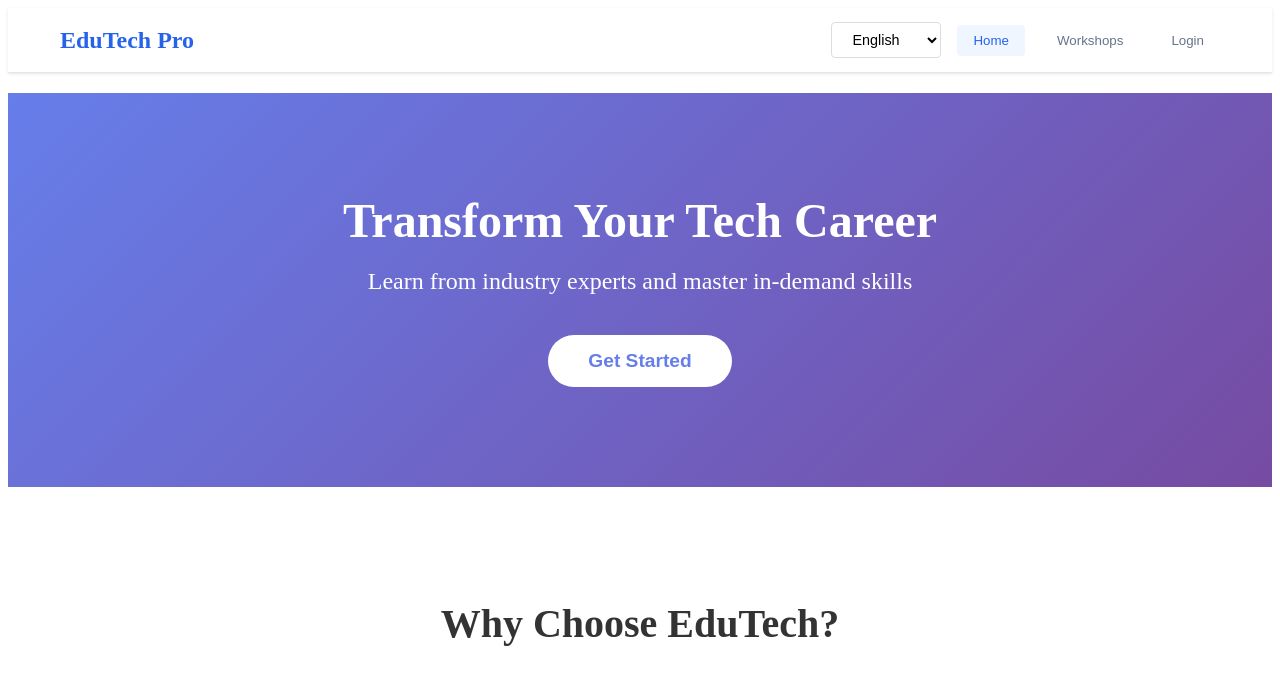
Test: Smoke Tests - Critical Paths › should display workshops
Click the button "Workshops" at (1090, 41), box [1041,25,1139,56]
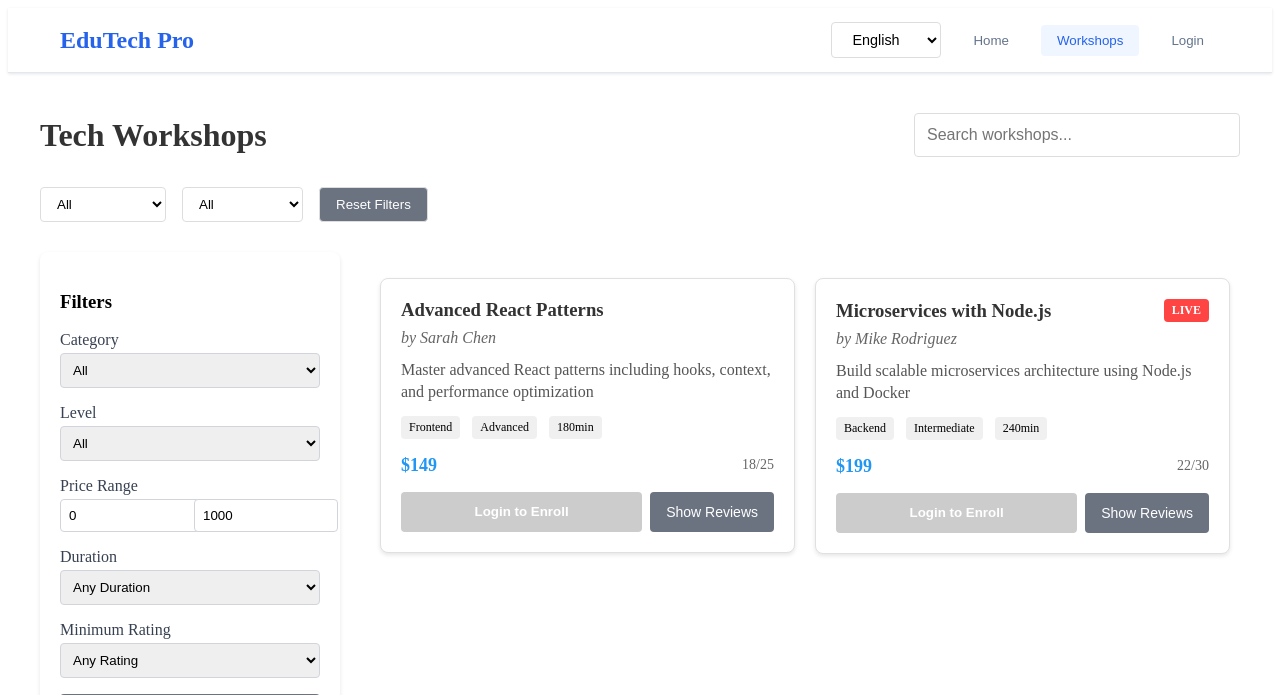
Now the element with class "workshop-card" that starts with "Advanced React Patterns" is shown, box [380,278,795,553]
